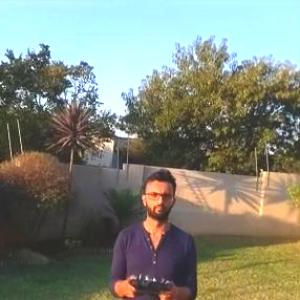follow: (110, 163, 211, 299)
